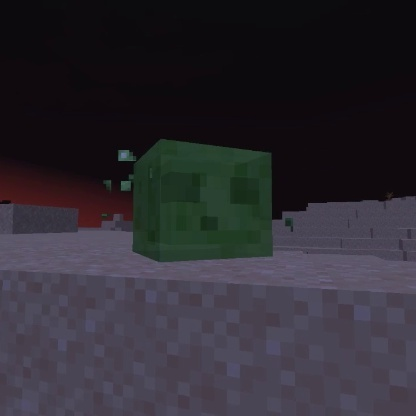slime: (126, 134, 280, 266)
